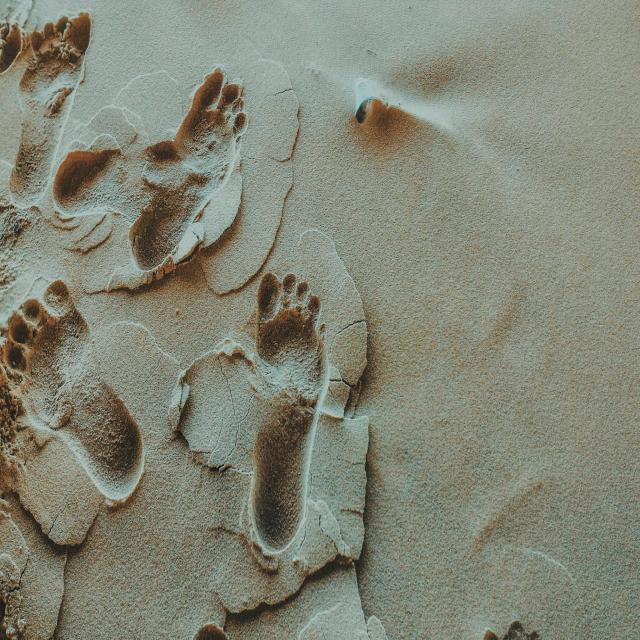human_footprint: (0, 18, 486, 602)
